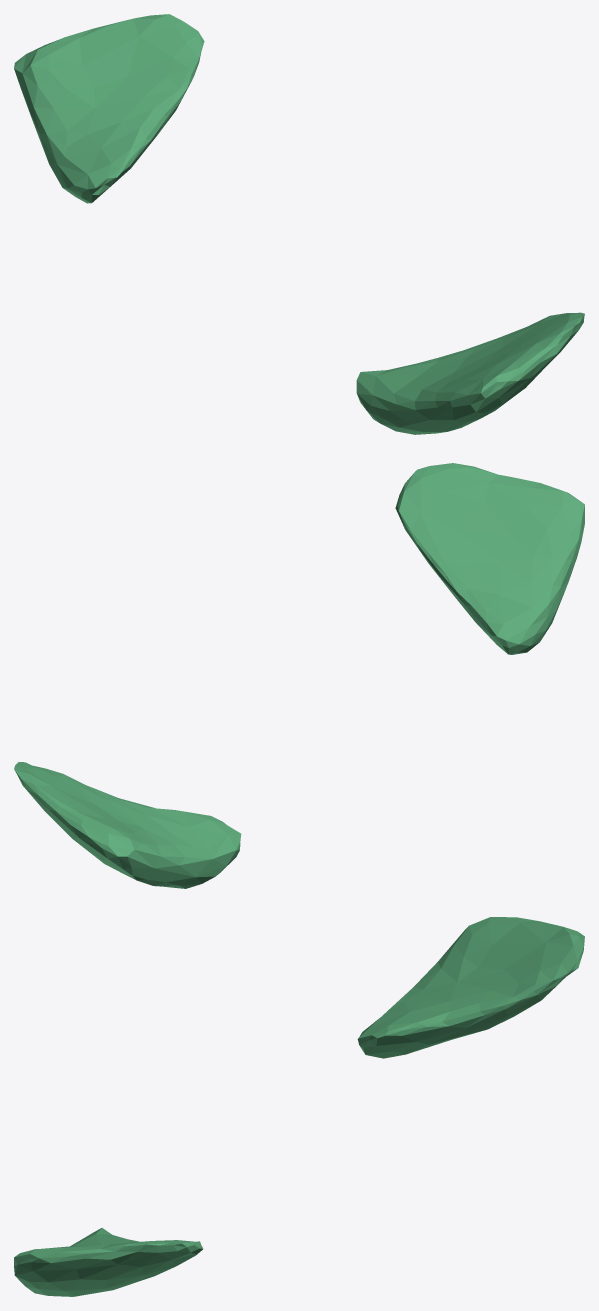
The picture shows the model from 3 angles, top to bottom: view 1: azimuth 30°, elevation 25°; view 2: azimuth 150°, elevation 25°; view 3: azimuth 330°, elevation 25°; orthographic projection.
Visible parts, largest first — view 1: 526157196.obj; view 2: 526157196.obj; view 3: 526157196.obj.
Boxes of the visible parts, <box> form: 526157196.obj: <box>14,14,584,434</box>; 526157196.obj: <box>14,463,584,888</box>; 526157196.obj: <box>14,917,584,1296</box>.
Size of the model in its own units: 663 by 426 by 3149.
